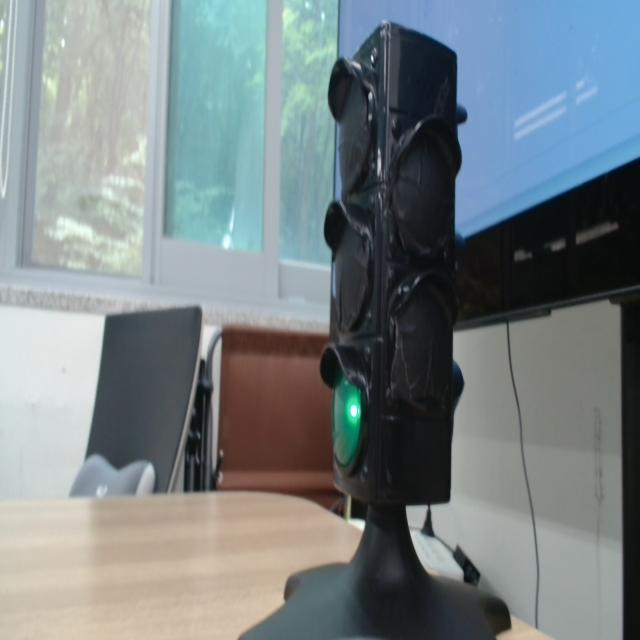green_light: (332, 371, 361, 466)
